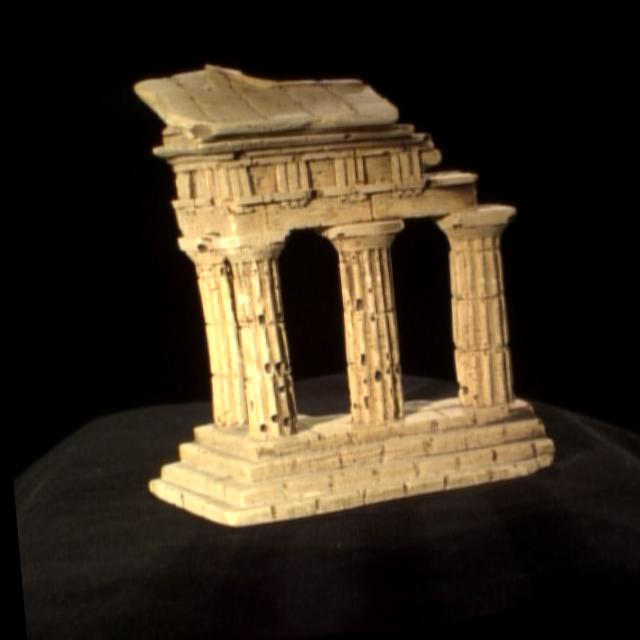Instance-Segmentation: (134, 64, 552, 524)
